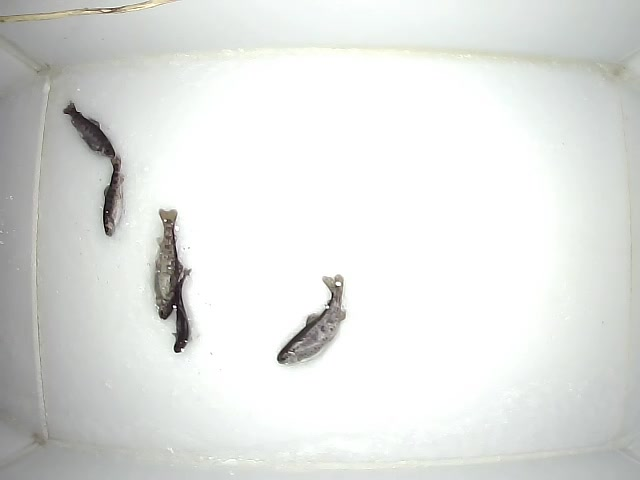fish: (274, 272, 348, 366), (152, 208, 183, 320), (61, 98, 116, 159), (169, 267, 196, 354), (99, 153, 127, 236)
